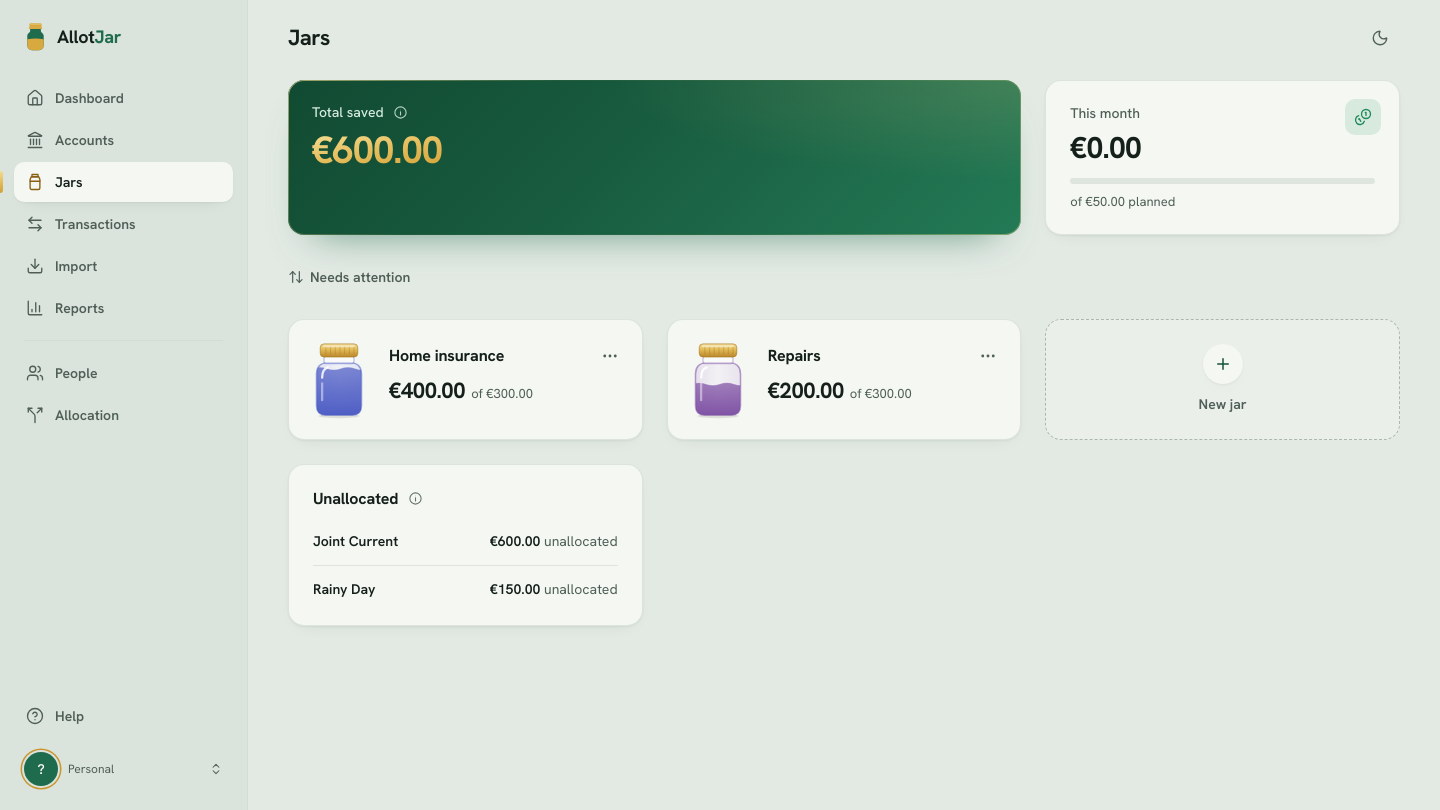
it: JarsPage — Move money across accounts (rule 80) › refuses a receipt date before the departure date without a request
This screenshot has width=1440, height=810.
Click the button named "Home insurance: more actions" at (610, 356), box [590,336,630,376]
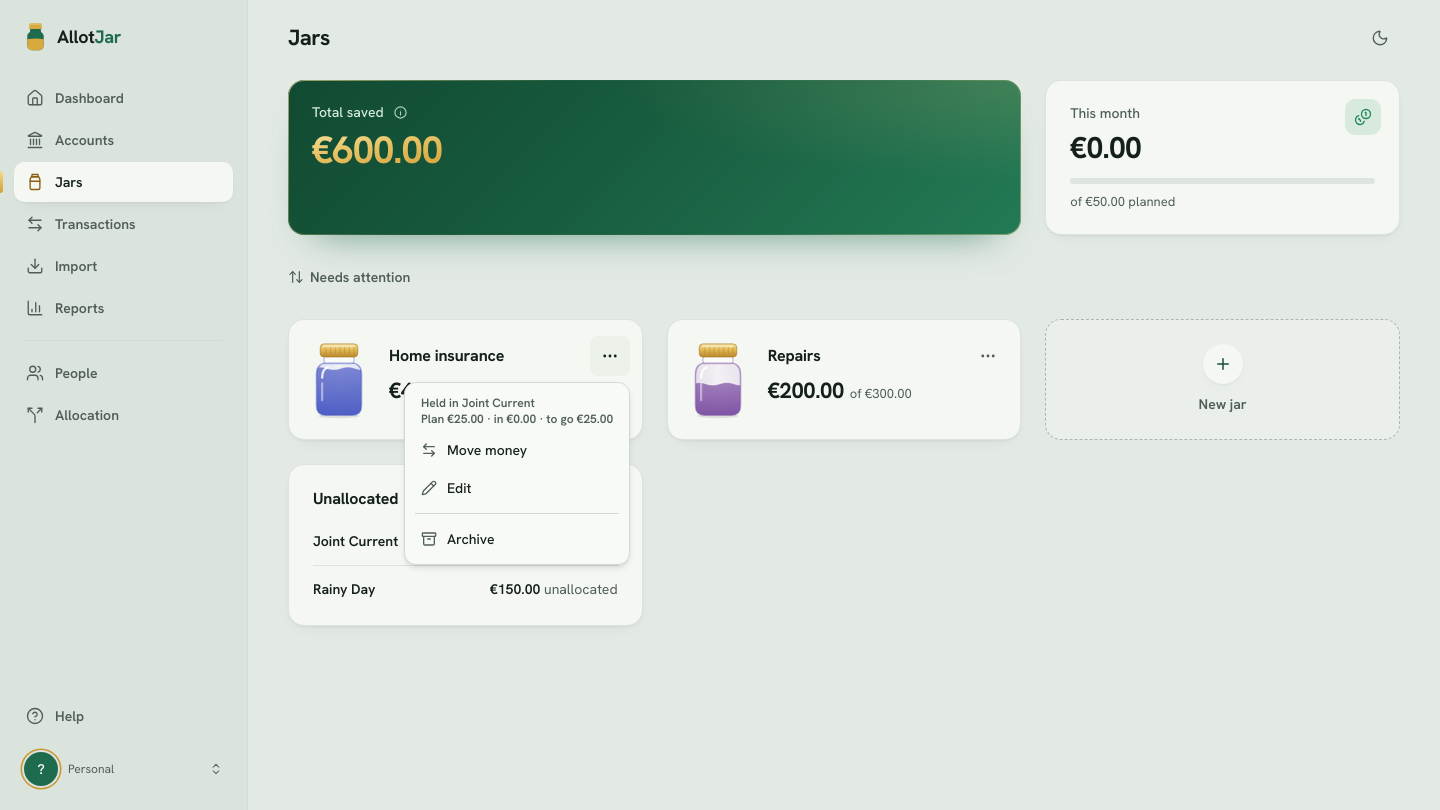
Click the menu item "Move money" at (474, 450), box [421,441,527,459]
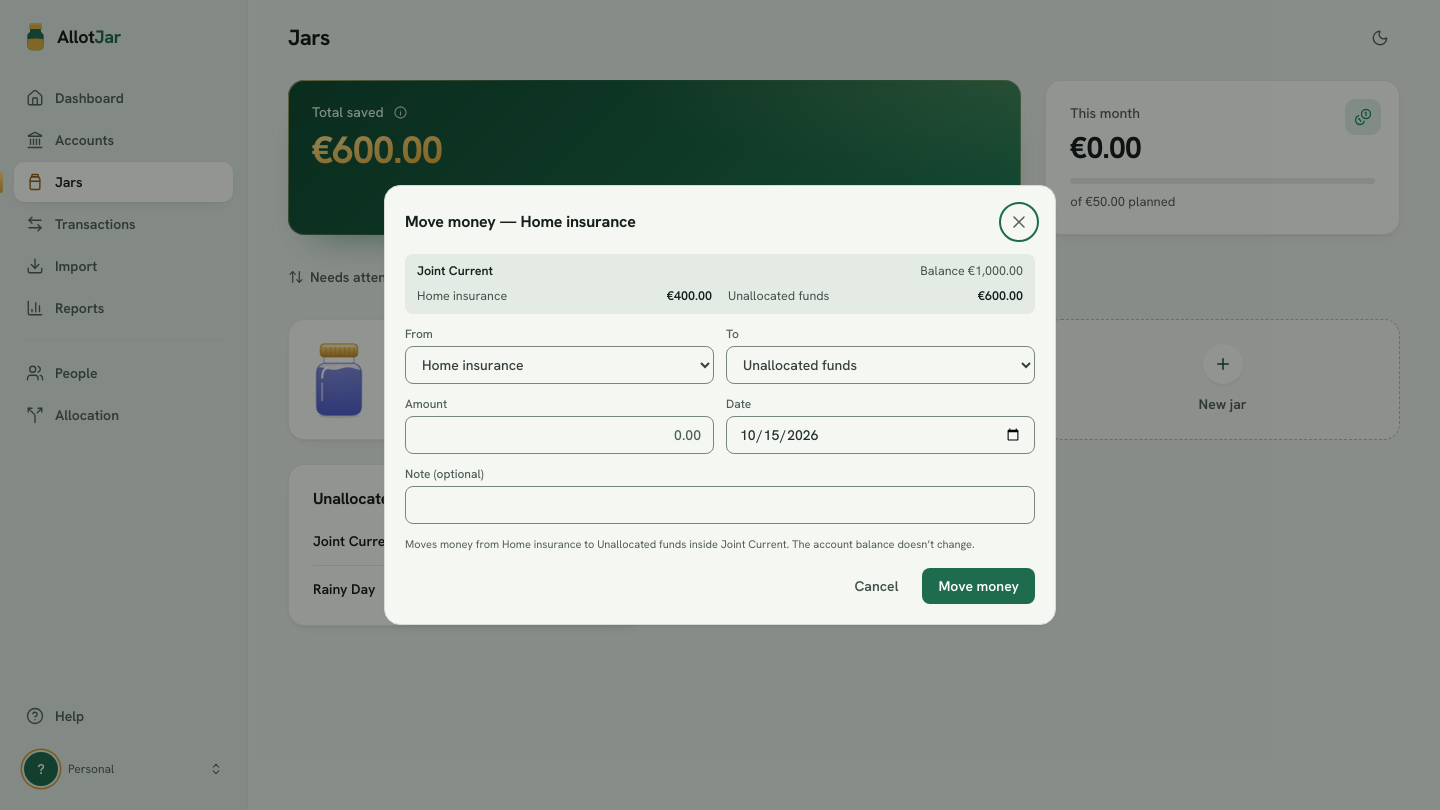
Now the dropdown named "Move from" is shown, box [405,346,714,384]
Select "Repairs" in the dropdown named "Move to" at (880, 364), box [726,346,1035,384]
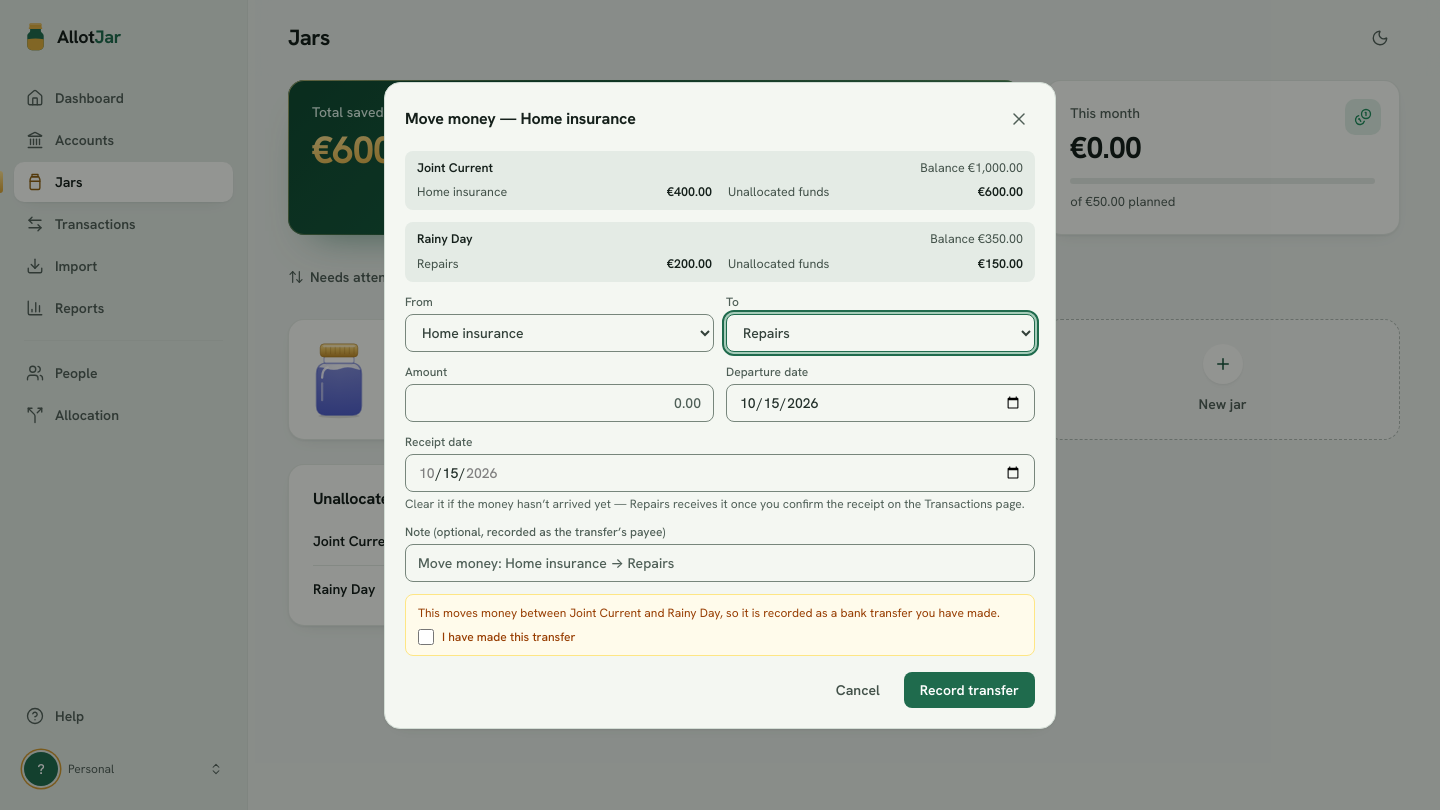
Type "10" into the field named "Move amount" at (560, 402), box [405,384,714,422]
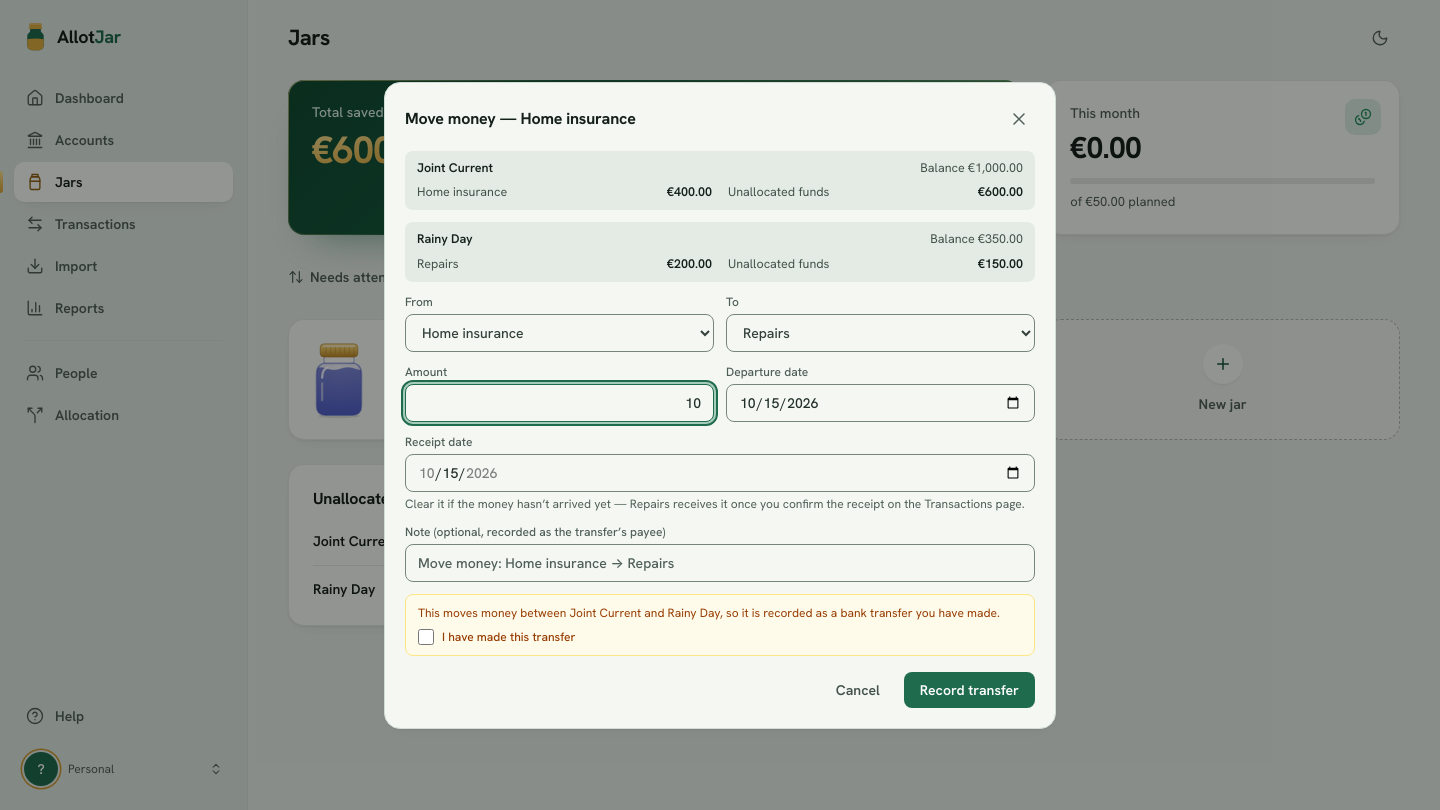
Type "2026-09-20" into the date field labelled "Departure date" at (880, 402), box [726,384,1035,422]
Type "2026-09-19" into the date field labelled "Receipt date" at (720, 472), box [405,454,1035,492]
Click the checkbox labelled "I have made this transfer" at (426, 636), box [418,628,434,644]
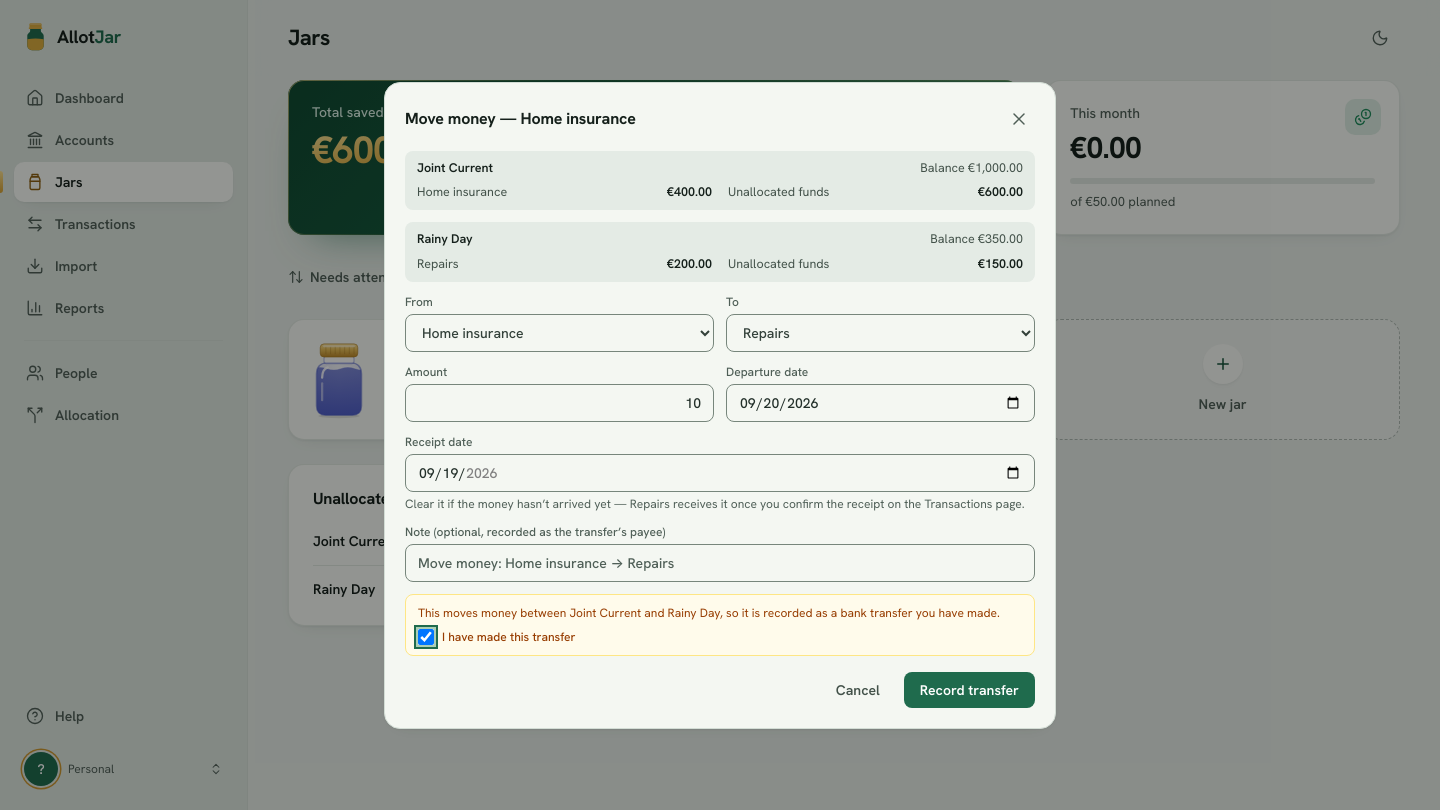
Click the button "Record transfer" at (969, 690), box [904,672,1035,708]
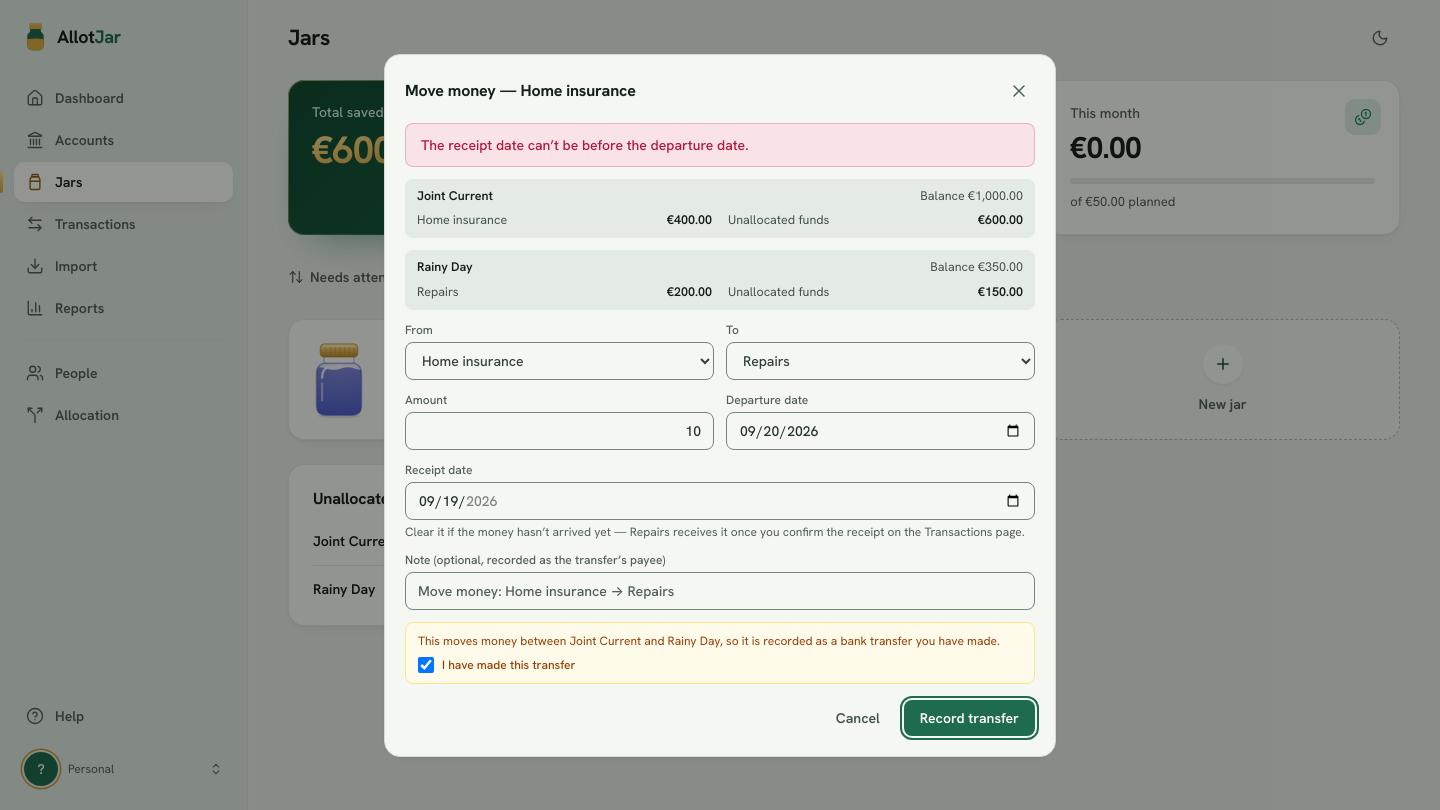
Now the text "The receipt date can’t be before the departure date." is shown, box [405,122,1035,166]
